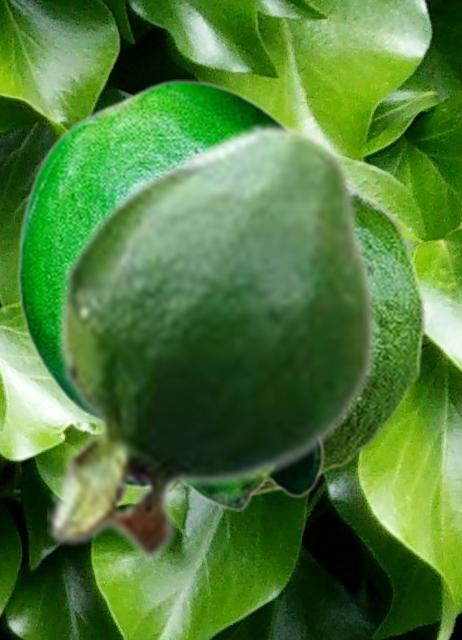guava: (47, 120, 377, 564), (15, 79, 328, 510), (254, 183, 426, 497)
